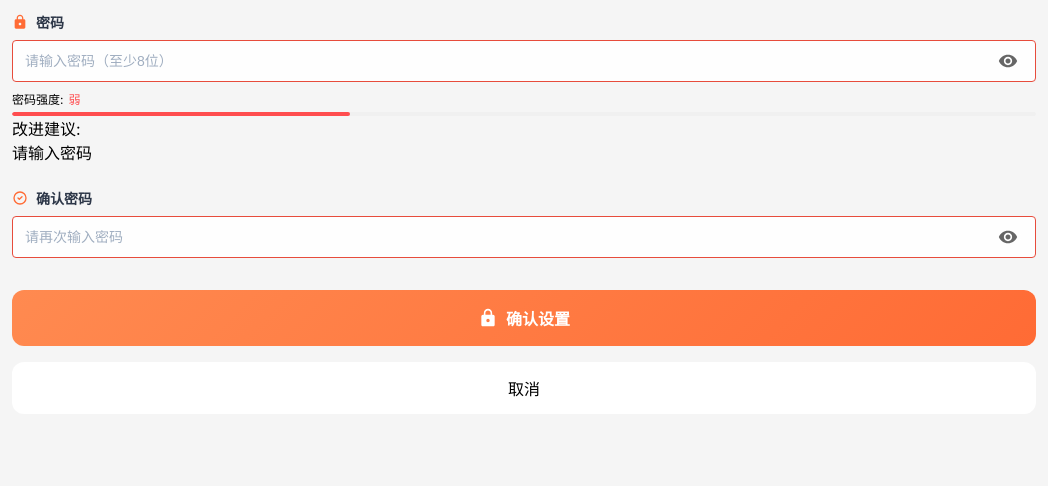
PasswordSetupForm Component Tests › 应该实时显示密码强度
In the password field with placeholder "请输入密码（至少8位）": (524, 61) x1=12 y1=40 x2=1036 y2=82, type "123"
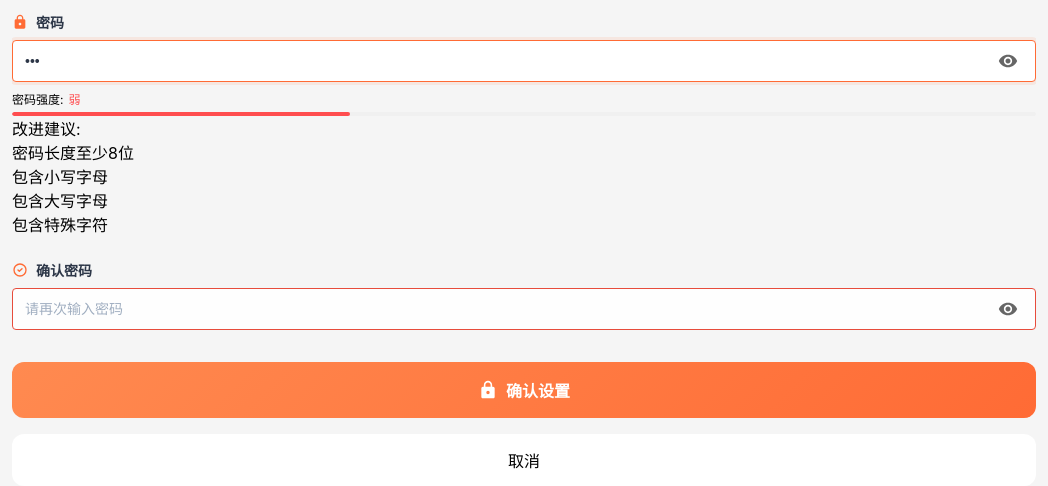
Expected: the text "弱" is shown, x1=68 y1=90 x2=80 y2=107
In the password field with placeholder "请输入密码（至少8位）": (524, 61) x1=12 y1=40 x2=1036 y2=82, type "StrongPassword123!"
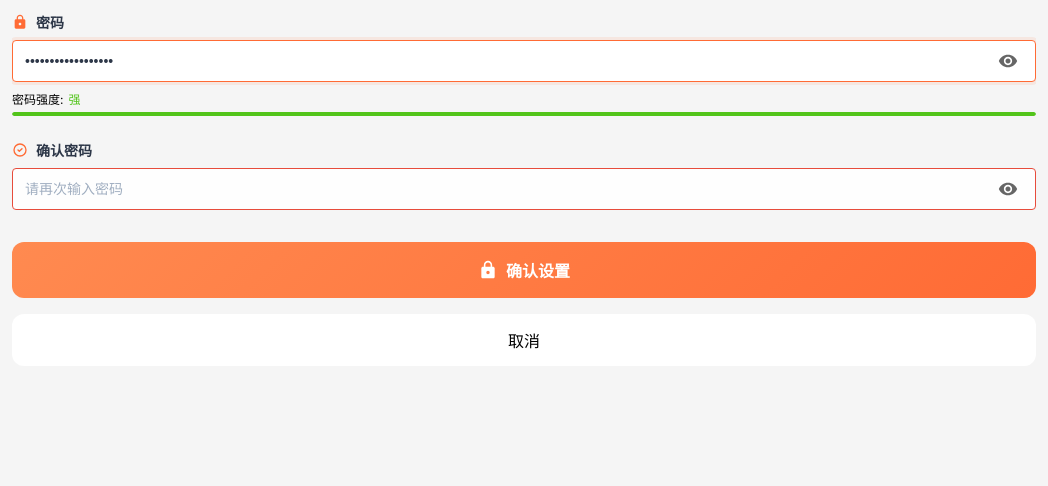
Expected: the text "强" is shown, x1=68 y1=90 x2=80 y2=107
